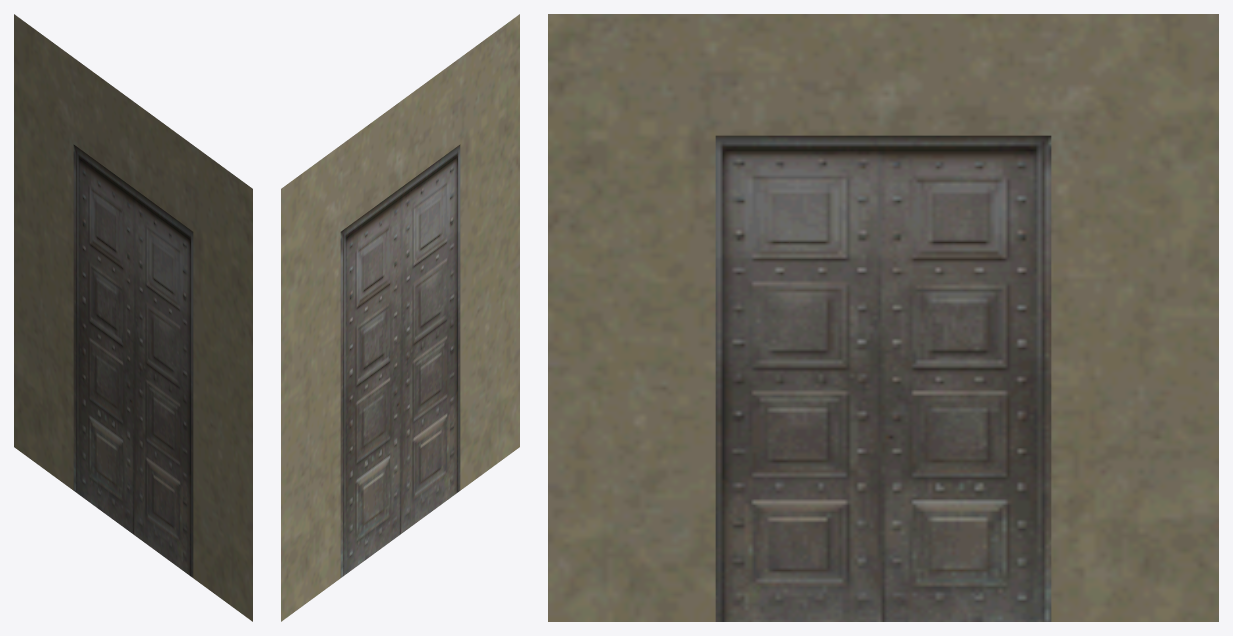
File: Urban_StucoWallMetalDoor_Model.fbx
3 views of the same model, side by side, from view 1: azimuth 30°, elevation 25°; view 2: azimuth 150°, elevation 25°; view 3: azimuth 270°, elevation 25° (orthographic). The views are drawn at different scales.
Visible parts, largest first — view 1: Urban_StucoWallMetalDoor_Mesh; view 2: Urban_StucoWallMetalDoor_Mesh; view 3: Urban_StucoWallMetalDoor_Mesh.
Part boxes in pixels (<box>): Urban_StucoWallMetalDoor_Mesh: <box>14,14,252,621</box>; Urban_StucoWallMetalDoor_Mesh: <box>281,14,519,621</box>; Urban_StucoWallMetalDoor_Mesh: <box>548,14,1218,621</box>.
Size of the model in its own units: 0 by 2.1 by 2.1.
